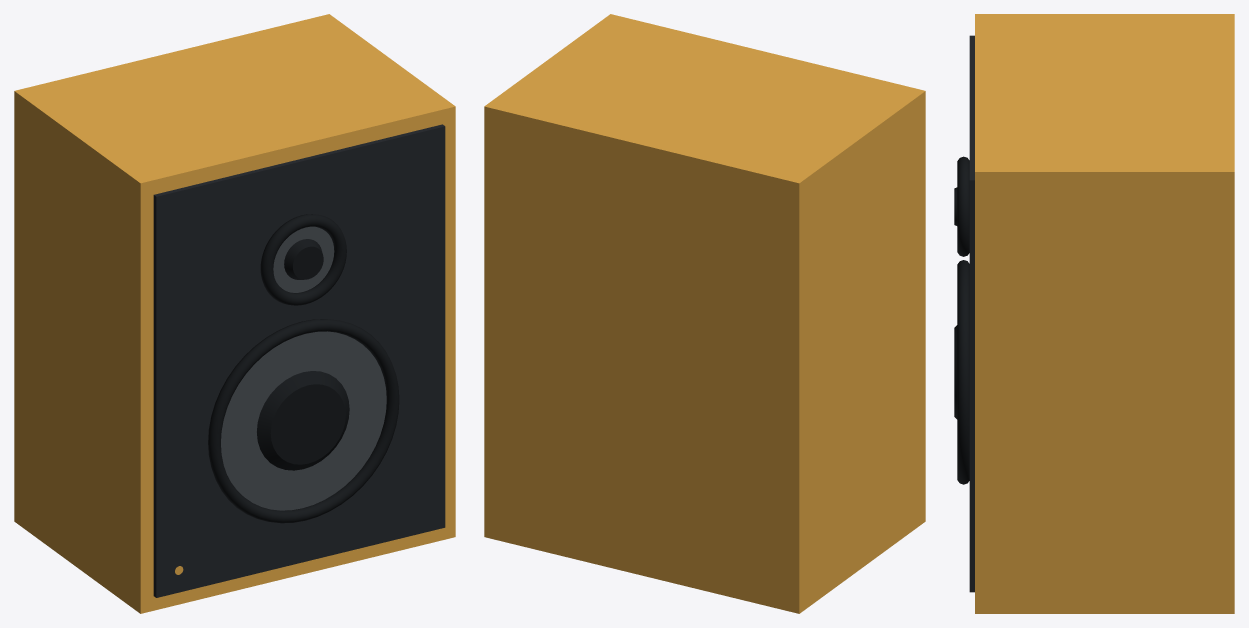
Rendered from form-01.glb.
3 views of the same model, side by side, from view 1: azimuth 30°, elevation 25°; view 2: azimuth 150°, elevation 25°; view 3: azimuth 270°, elevation 25° (orthographic). The views are drawn at different scales.
Parts seen in each view (by area): view 1: Cabinet, Baffle, Woofer Cone, Woofer Rim, Woofer Cap, Tweeter Rim, Tweeter Cone, Tweeter Cap; view 2: Cabinet; view 3: Cabinet, Baffle, Woofer Rim, Tweeter Rim.
Part boxes in pixels (x1=…): Cabinet: x1=14, y1=14, x2=455, y2=613; Baffle: x1=153, y1=124, x2=445, y2=597; Woofer Cone: x1=221, y1=331, x2=386, y2=510; Woofer Rim: x1=208, y1=319, x2=399, y2=523; Woofer Cap: x1=257, y1=371, x2=349, y2=470; Tweeter Rim: x1=260, y1=214, x2=346, y2=305; Tweeter Cone: x1=273, y1=226, x2=334, y2=292; Tweeter Cap: x1=284, y1=239, x2=323, y2=279; Cabinet: x1=484, y1=14, x2=925, y2=613; Cabinet: x1=975, y1=14, x2=1234, y2=613; Baffle: x1=969, y1=35, x2=974, y2=592; Woofer Rim: x1=957, y1=260, x2=969, y2=484; Tweeter Rim: x1=957, y1=156, x2=969, y2=256.
Size of the model in its own units: 1.8 by 2.35 by 1.35.
